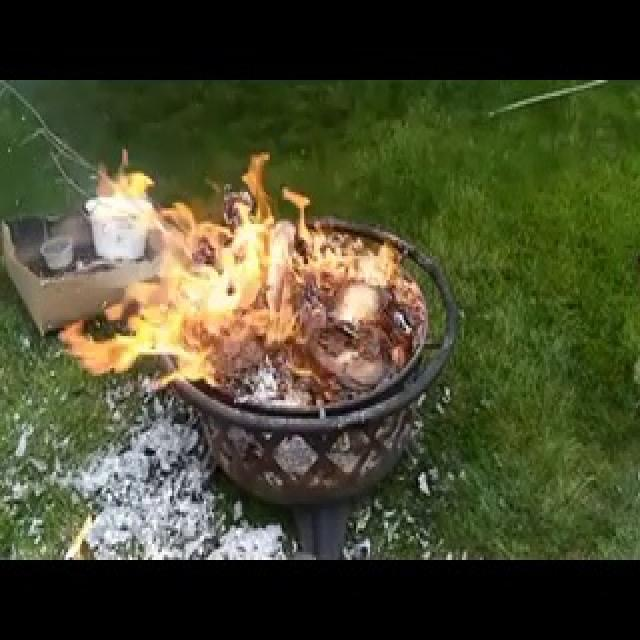fire: (72, 114, 430, 424)
